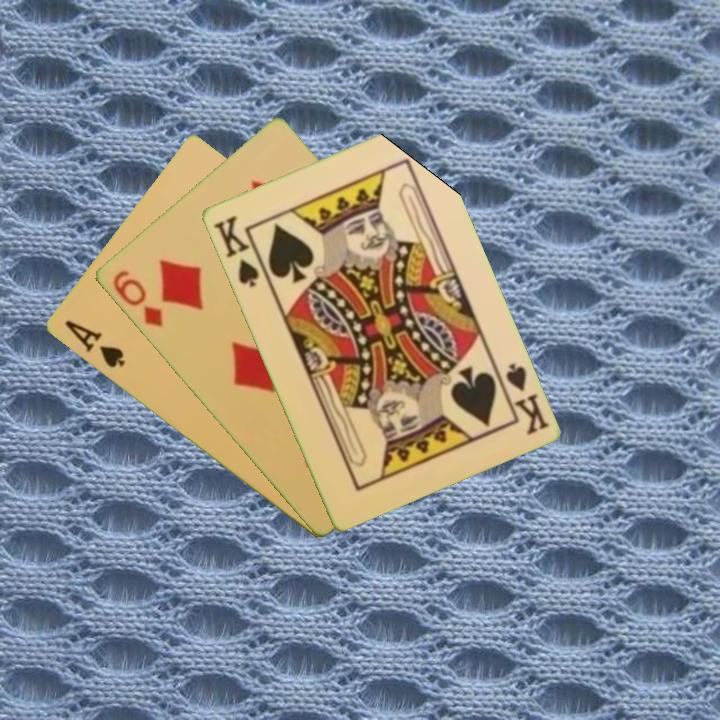6d: (108, 266, 166, 330)
As: (61, 316, 128, 371)
Ks: (492, 359, 552, 438), (209, 212, 261, 290)
